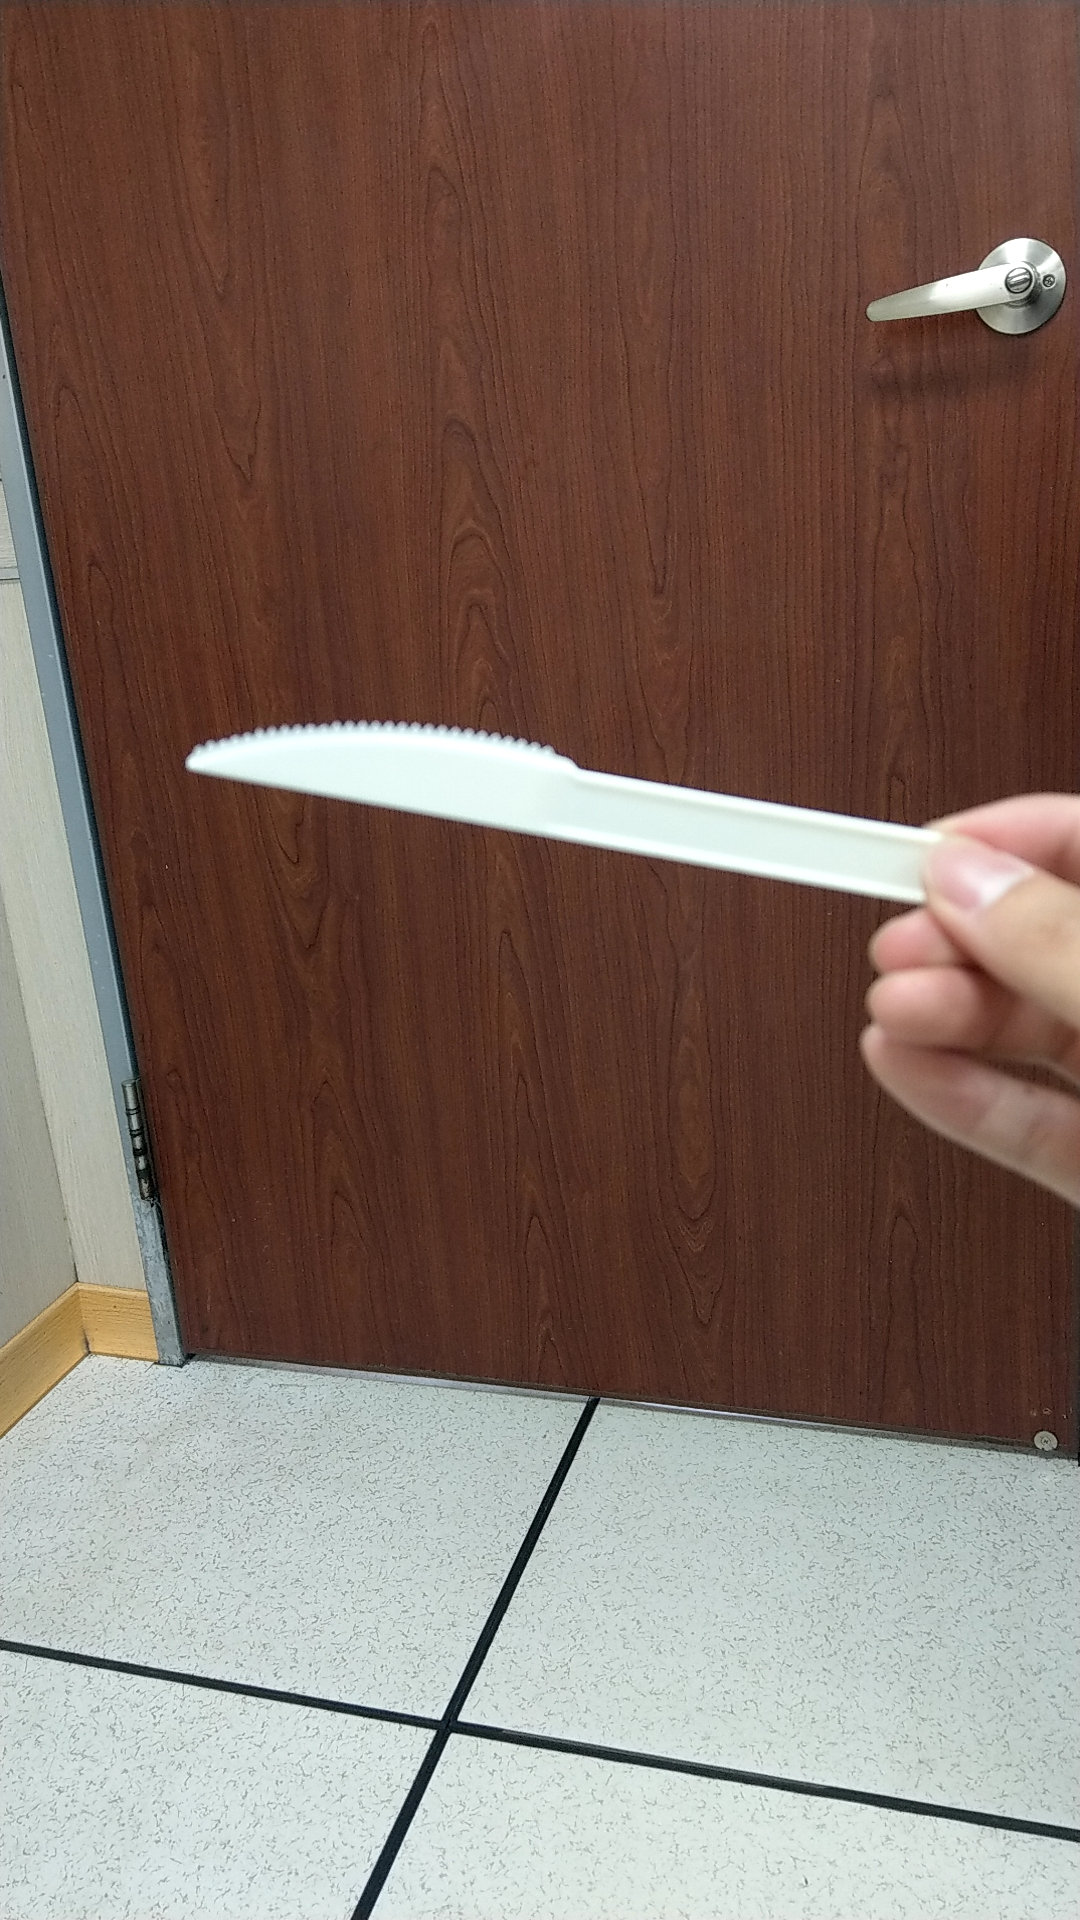knife: (161, 665, 936, 914)
